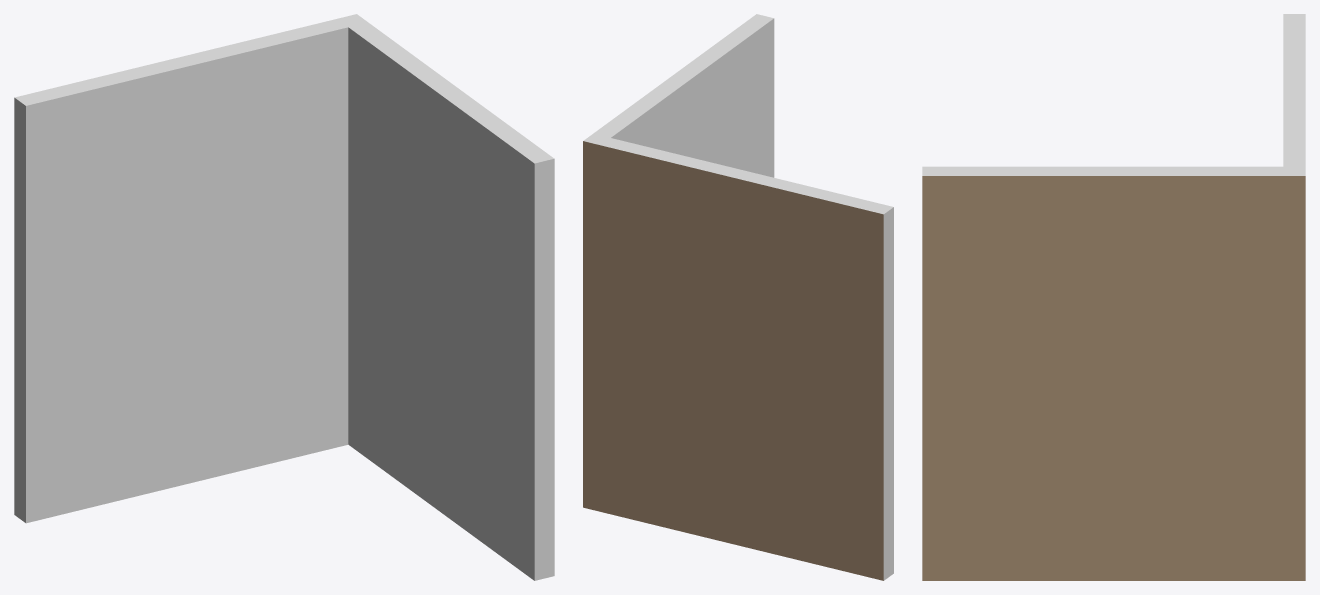
Rendered from Wall2_C2_06.fbx.
3 renders of one model, left to right at view 1: azimuth 30°, elevation 25°; view 2: azimuth 150°, elevation 25°; view 3: azimuth 270°, elevation 25°, orthographic. The views are drawn at different scales.
Parts seen in each view (by area): view 1: Wall2_C2_06; view 2: Wall2_C2_06; view 3: Wall2_C2_06.
Boxes of the visible parts, bbox=[...] form: Wall2_C2_06: bbox=[14, 14, 554, 580]; Wall2_C2_06: bbox=[583, 14, 893, 580]; Wall2_C2_06: bbox=[922, 14, 1305, 580].
Bounding box in the file's own units: 258 × 300 × 258.
